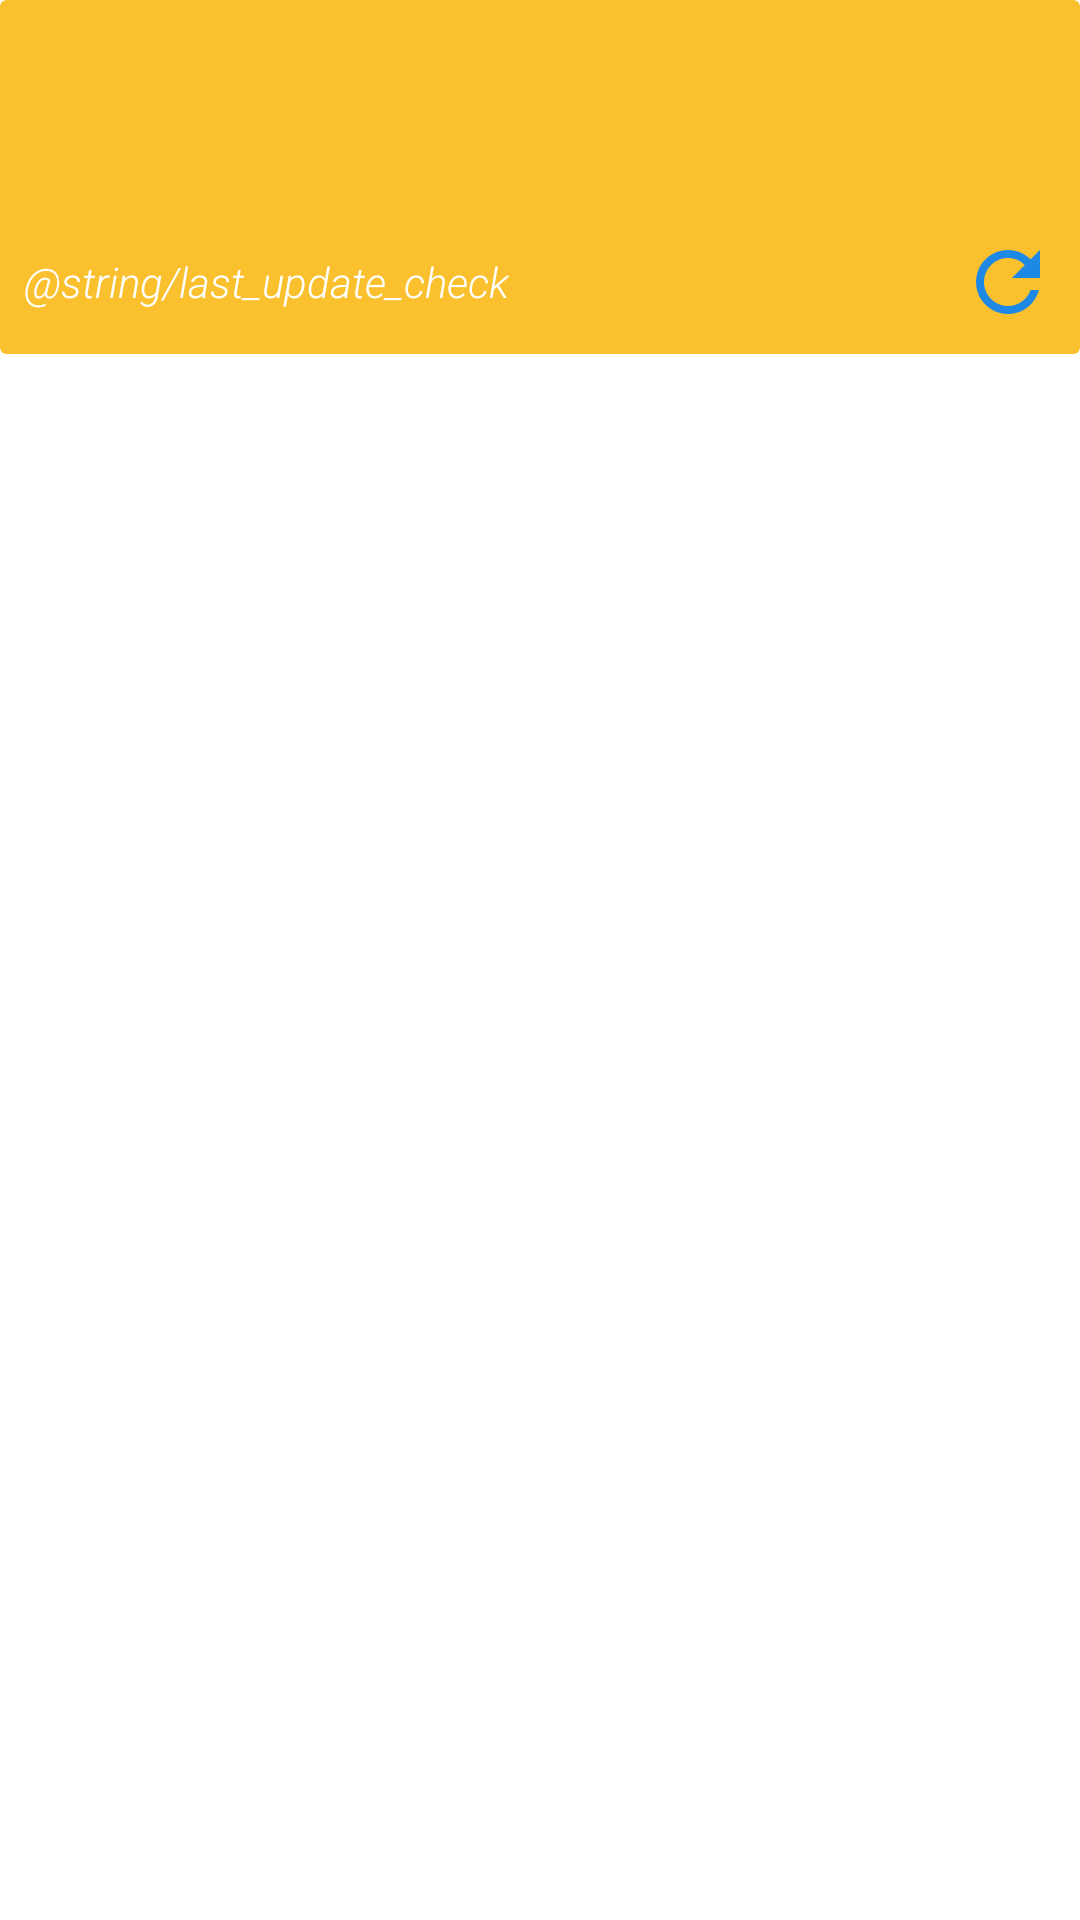

Icons on this 1080*1920 Android screen, each with its box as (x1, y1, x2, y2):
Synchronizuj: (976, 250, 1040, 314)
